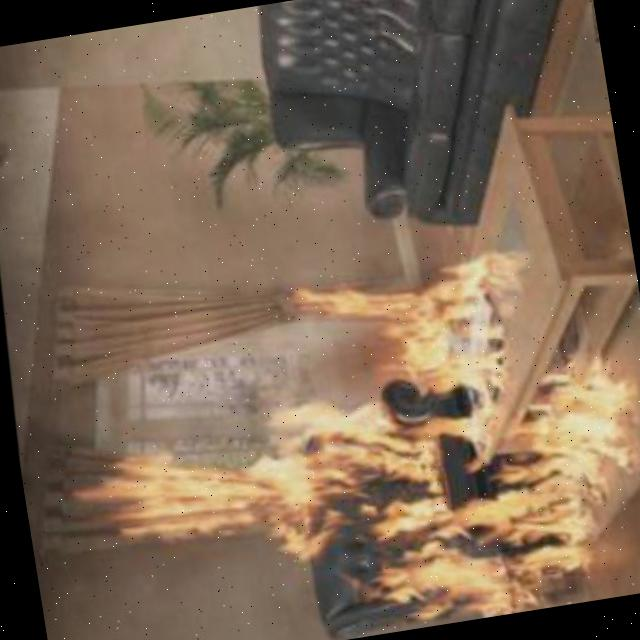fire: (226, 201, 640, 640), (52, 415, 275, 584)
